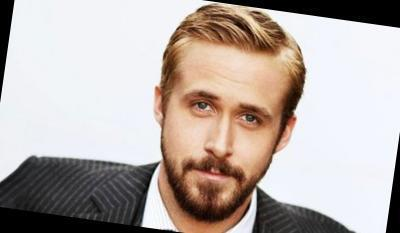Sober: (169, 45, 271, 198)
